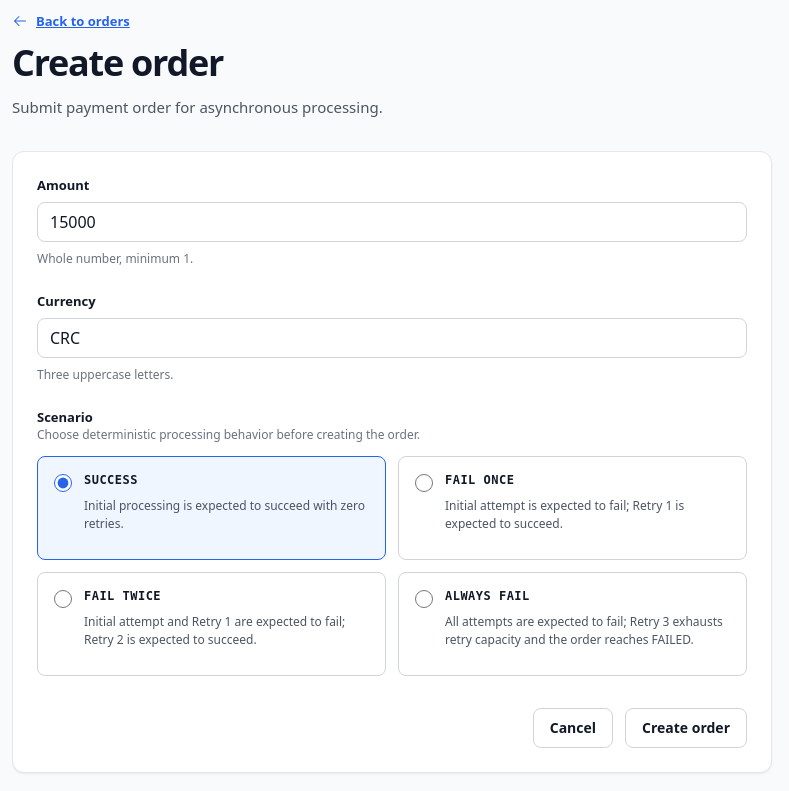
Test: CreateOrderPage › keeps amount validation from submitting an invalid order
The width and height of the screenshot is (789, 791).
Replace the text in the number field labelled "Amount" with "1.5": [392, 222] box [37, 202, 747, 242]
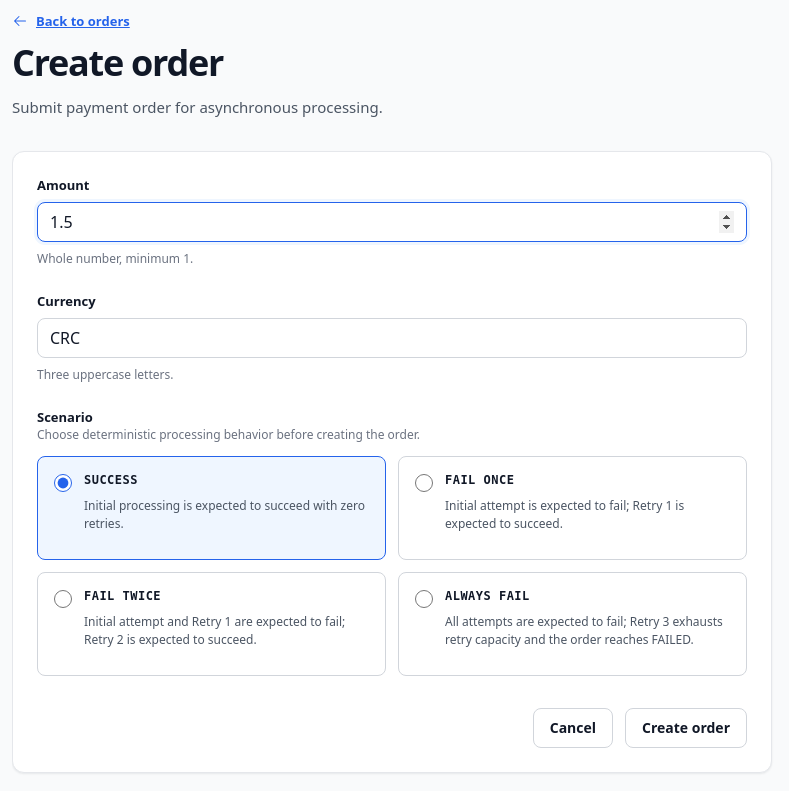
Click the button "Create order": [686, 728] box [625, 708, 747, 748]
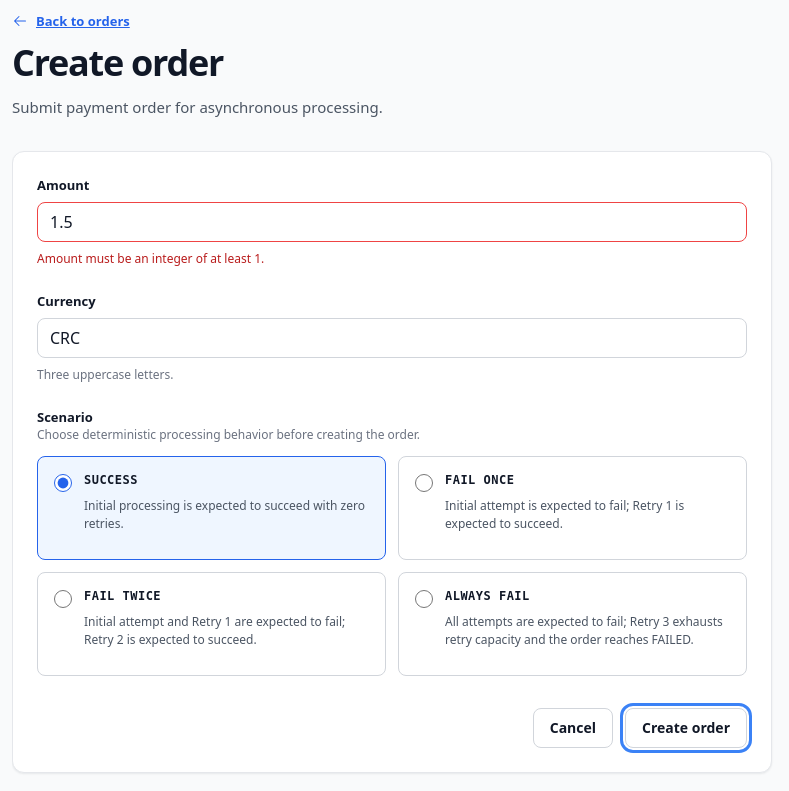
expect the text "Amount must be an integer of at least 1." is shown: met, box [37, 250, 264, 267]
